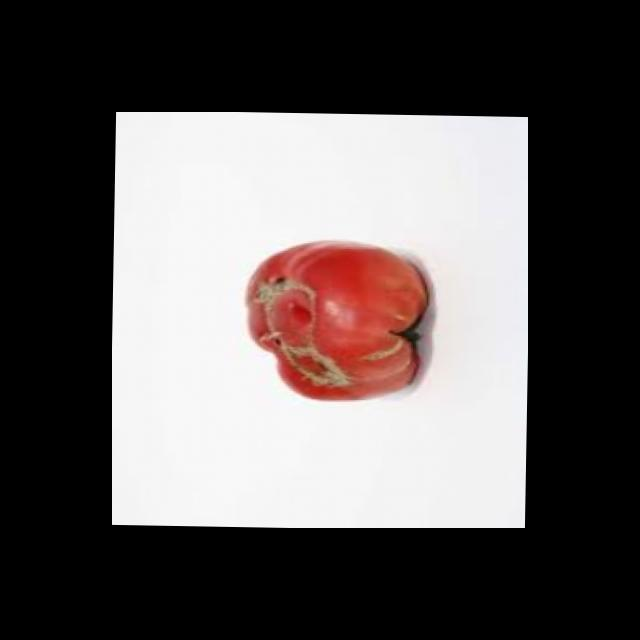tomato: (236, 232, 433, 412)
